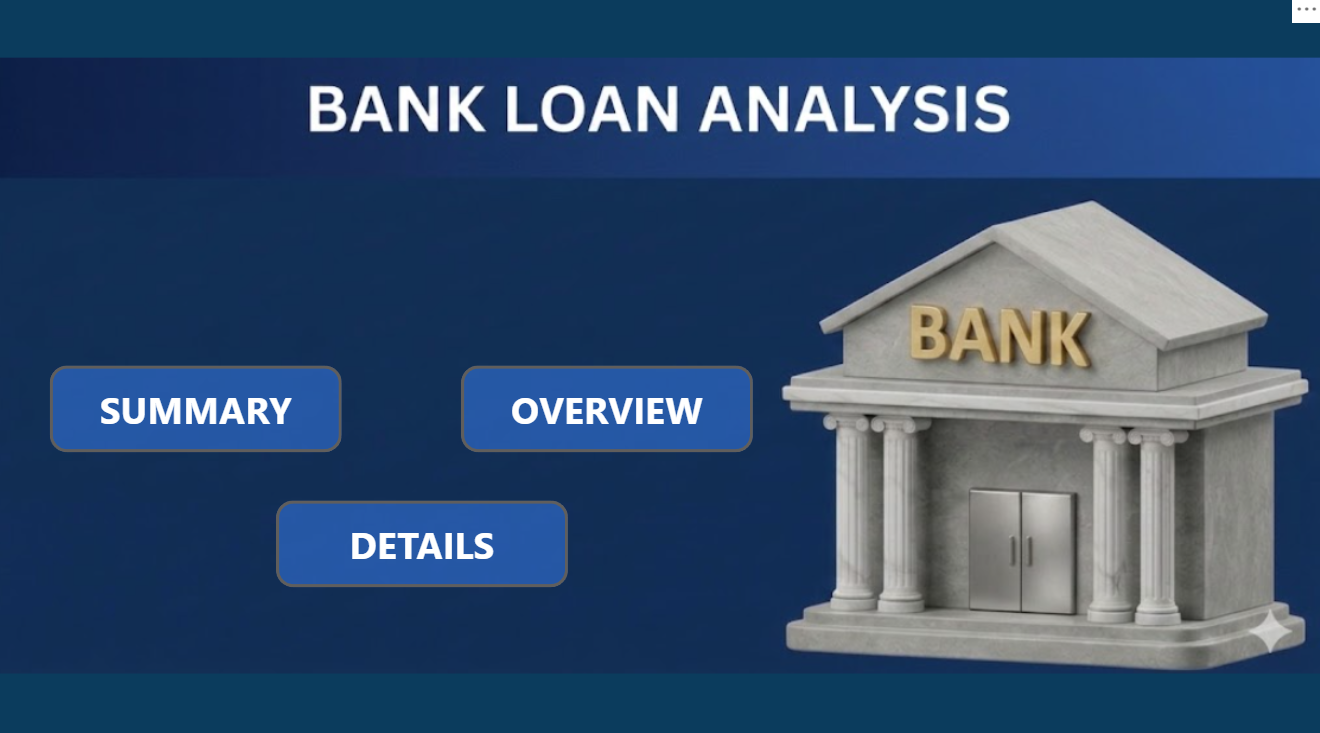

Layout of this report page (visuals, bound fields, positions):
{"tool":"tableau","page":{"name":"Home","canvas":[1100,550],"ordinal":1},"visuals":[{"type":"image","param":"C:/Users/Dell/Pictures/PROJECTS/Bank_loan_analysis/4.png","box":[8,8,1084,534]},{"type":"dashboard-object","box":[341,244,246,88]},{"type":"dashboard-object","box":[41,246,265,87]},{"type":"dashboard-object","box":[175,360,269,79]}]}

Visuals, with their boxes on the page's 1100x550 design canvas (x1, y1, x2, y2). These are canvas units, not pixel positions in the 1320x733 screenshot, which may show the page scaled, cropped or inside an application window:
image: 8 8 1092 542
dashboard-object: 341 244 587 332
dashboard-object: 41 246 306 333
dashboard-object: 175 360 444 439
